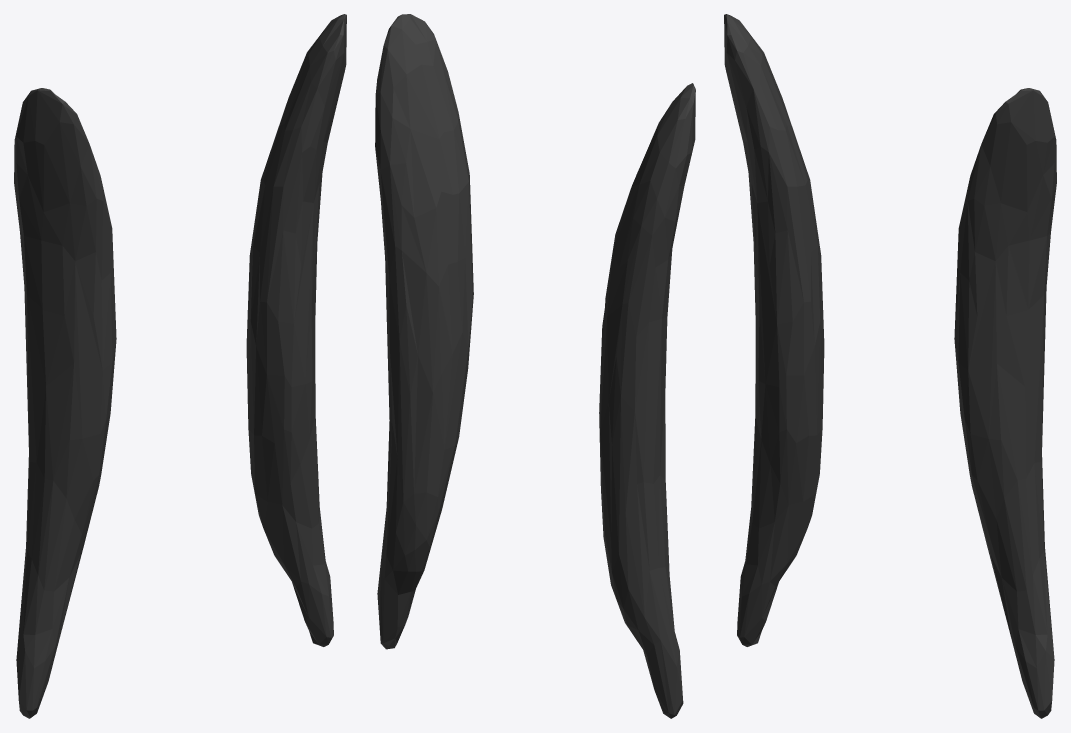
Rendered from m_flexor_digitorum_superficialis_FL.glb.
3 renders of one model, left to right at view 1: azimuth 30°, elevation 25°; view 2: azimuth 150°, elevation 25°; view 3: azimuth 330°, elevation 25°, orthographic. The views are drawn at different scales.
Visible parts, largest first — view 1: m_flexor_digitorum_superficialis_FL; view 2: m_flexor_digitorum_superficialis_FL; view 3: m_flexor_digitorum_superficialis_FL.
Boxes of the visible parts, <box> form: m_flexor_digitorum_superficialis_FL: <box>14,14,346,718</box>; m_flexor_digitorum_superficialis_FL: <box>375,14,695,718</box>; m_flexor_digitorum_superficialis_FL: <box>724,14,1056,718</box>.
Bounding box in the file's own units: 0.00377 × 0.00722 × 0.00103.
1 material, 1 textured.
